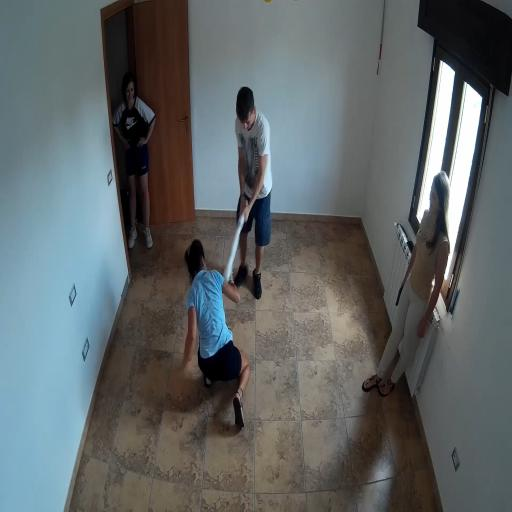violencia: (164, 61, 286, 440)
